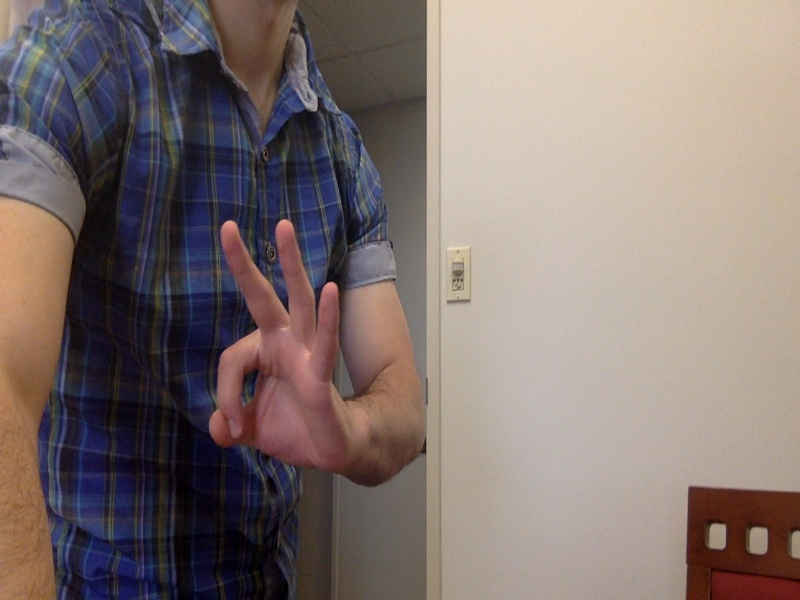3-hand: (203, 222, 362, 492)
